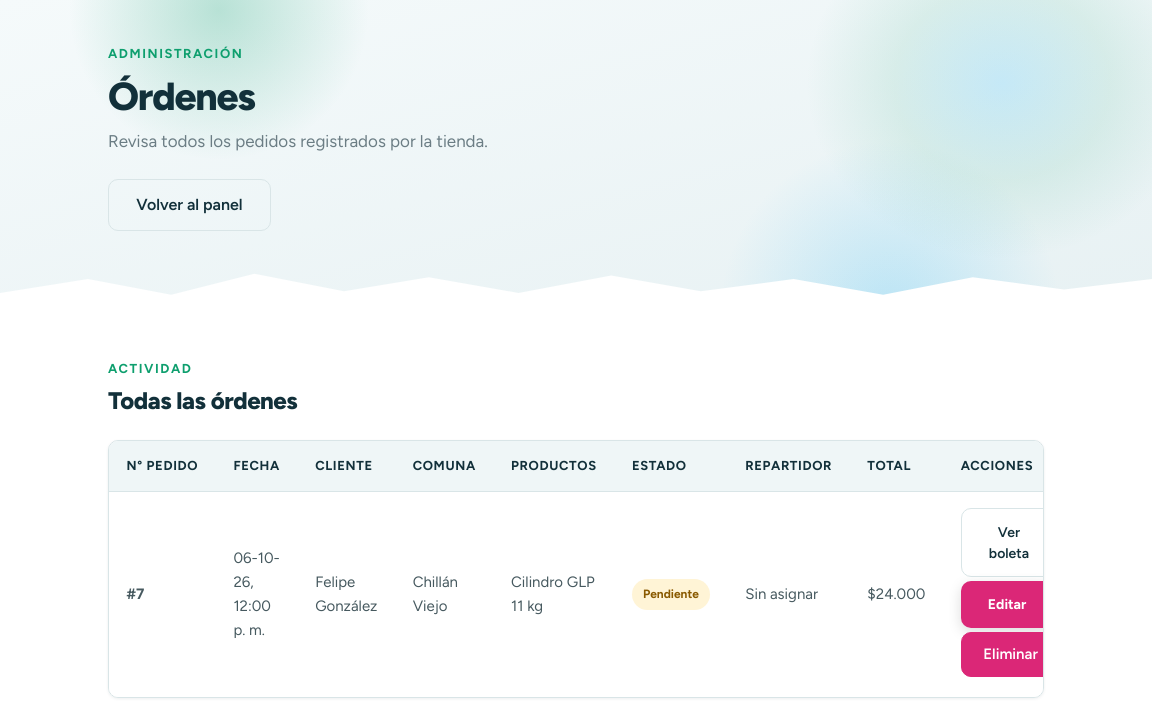
Órdenes: pedidos con otros formatos › muestra un pedido guardado con el formato antiguo
This screenshot has width=1152, height=720.
Expected: the row that starts with "06-10-26, 12:00 p. m." shows "Felipe González", [315,574,377,616]
Step 1. Click the button "Ver boleta" → (1009, 543), box [961,508,1057,577]
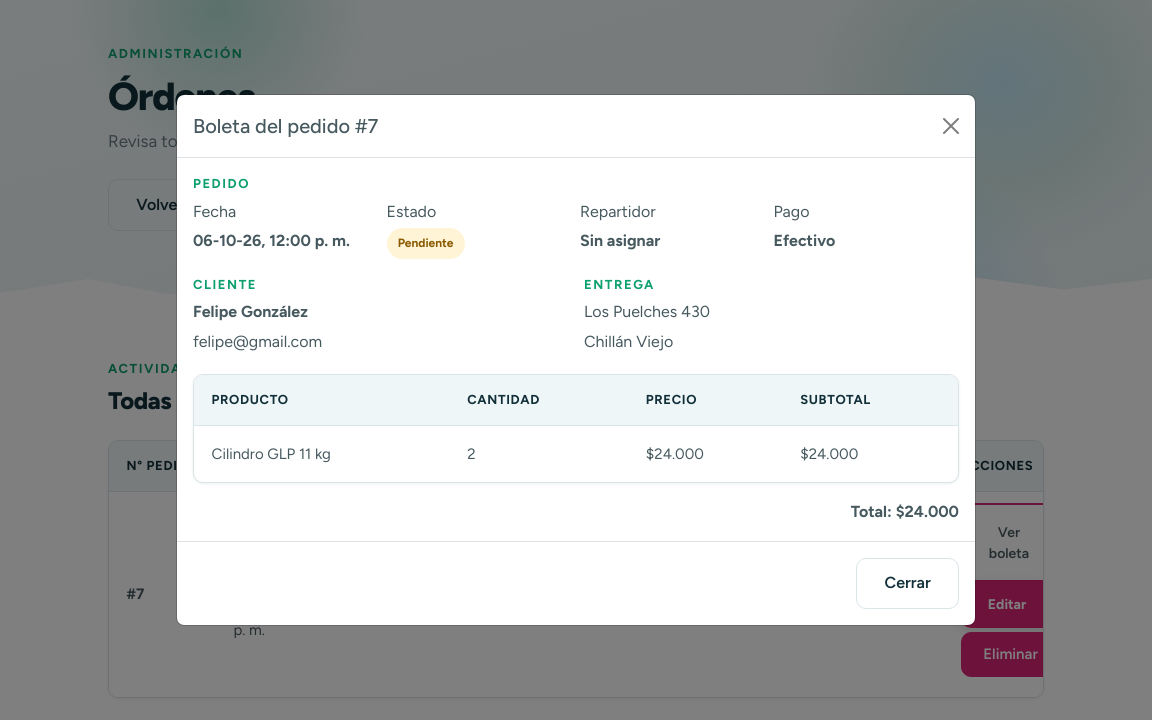
Expected: the text "felipe@gmail.com" is shown, [193,332,322,351]
Expected: the text "Los Puelches 430" is shown, [584,302,710,321]
Expected: the text "Efectivo" is shown, [774,231,835,250]
